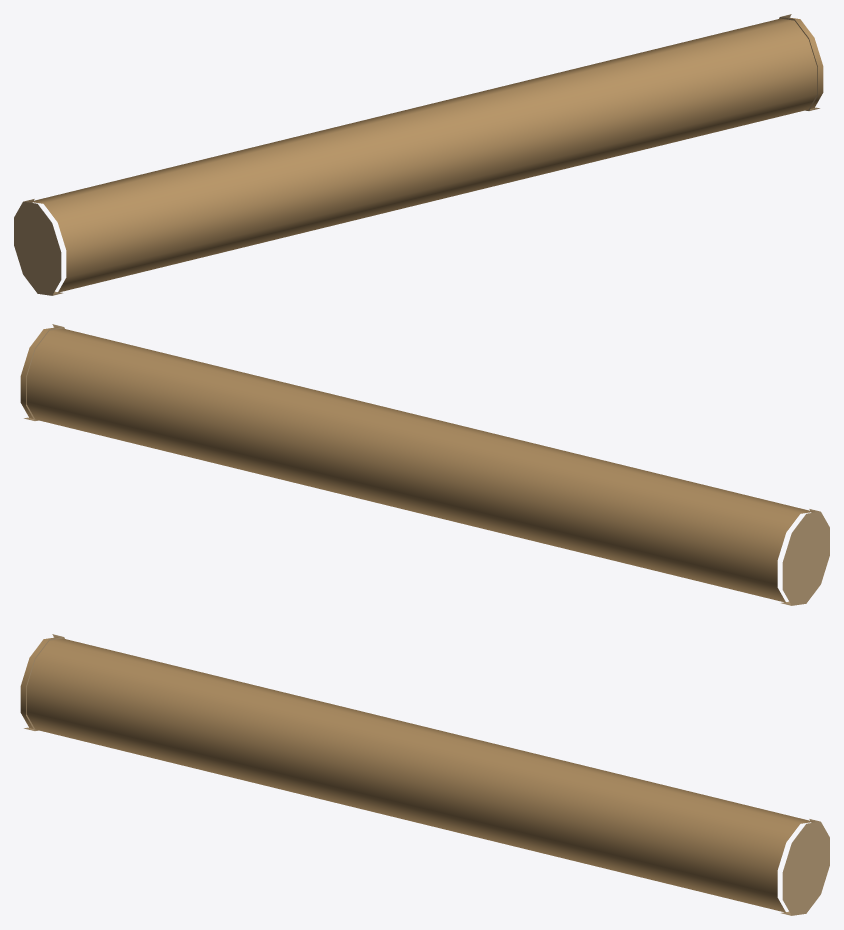
Rendered from fallen_log.glb.
The picture shows the model from 3 angles, top to bottom: view 1: azimuth 30°, elevation 25°; view 2: azimuth 150°, elevation 25°; view 3: azimuth 330°, elevation 25°; orthographic projection.
Visible parts, largest first — view 1: fallen_log; view 2: fallen_log; view 3: fallen_log.
Part boxes in pixels (box(x1,y1,x2,y2)): fallen_log: box(14, 14, 823, 295); fallen_log: box(20, 324, 829, 605); fallen_log: box(20, 634, 829, 915).
Size of the model in its own units: 5.18 by 0.58 by 0.5516.
